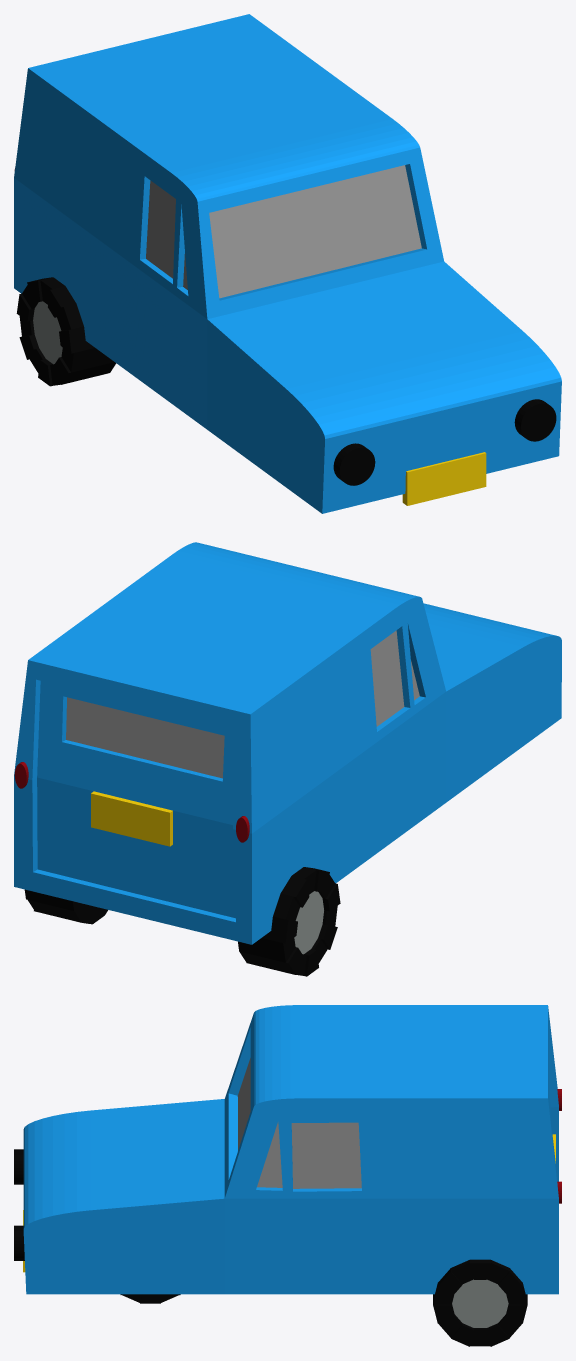
File: Reliant_Robin.glb
3 views of the same model, one above another, from view 1: azimuth 30°, elevation 25°; view 2: azimuth 150°, elevation 25°; view 3: azimuth 270°, elevation 25° (orthographic). The views are drawn at different scales.
Visible parts, largest first — view 1: Cube.005; view 2: Cube.005; view 3: Cube.005.
Part boxes in pixels (x1,y1,x2,y2): Cube.005: (14, 14, 561, 513); Cube.005: (14, 542, 561, 976); Cube.005: (14, 1005, 561, 1346).
Size of the model in its own units: 2.2 by 2.26 by 4.64.
